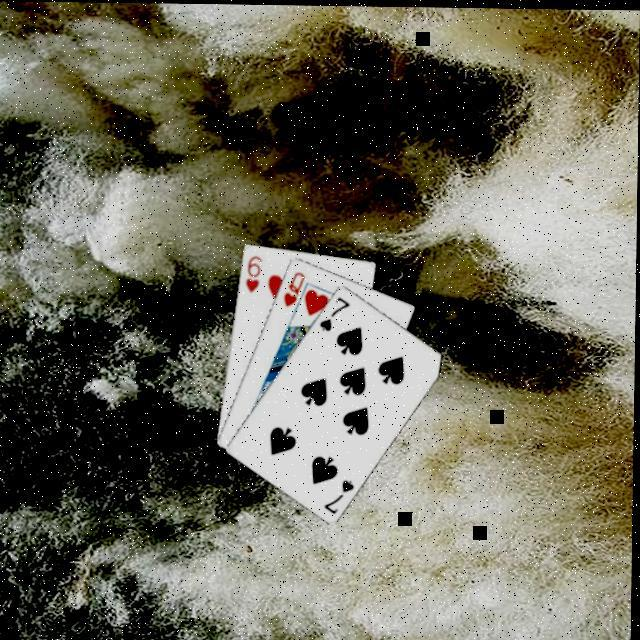6H: (242, 252, 264, 295)
7S: (316, 292, 352, 334), (322, 476, 358, 516)
QH: (280, 268, 306, 310)
